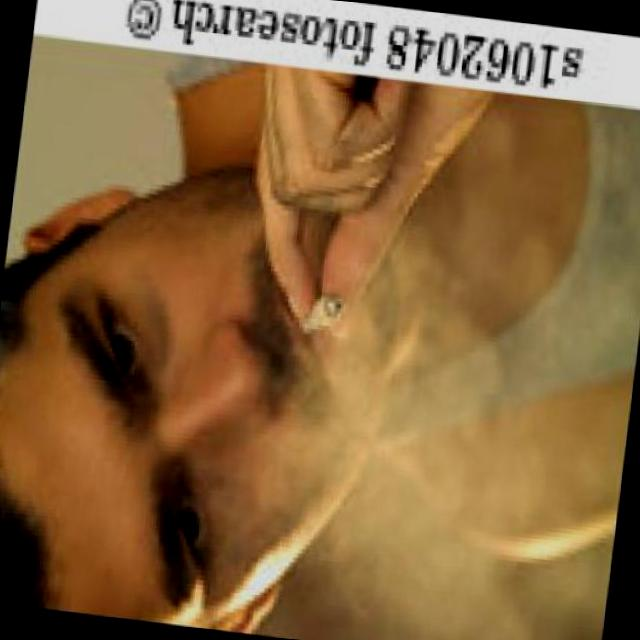smoke: (300, 286, 349, 341)
